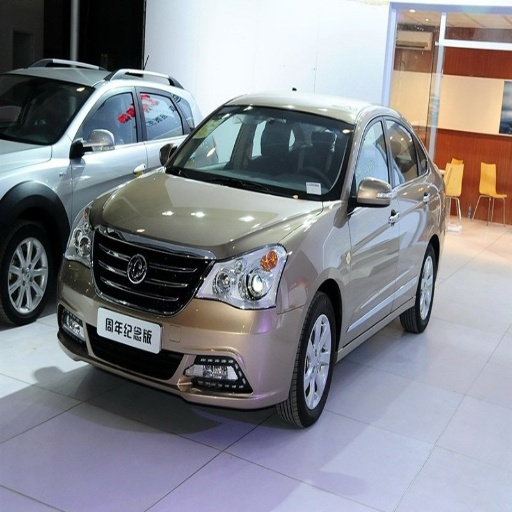front_bumper: (58, 228, 306, 410)
front_glass: (167, 106, 351, 200), (2, 77, 93, 145)
front_left_door: (349, 113, 401, 335), (71, 88, 141, 220)
